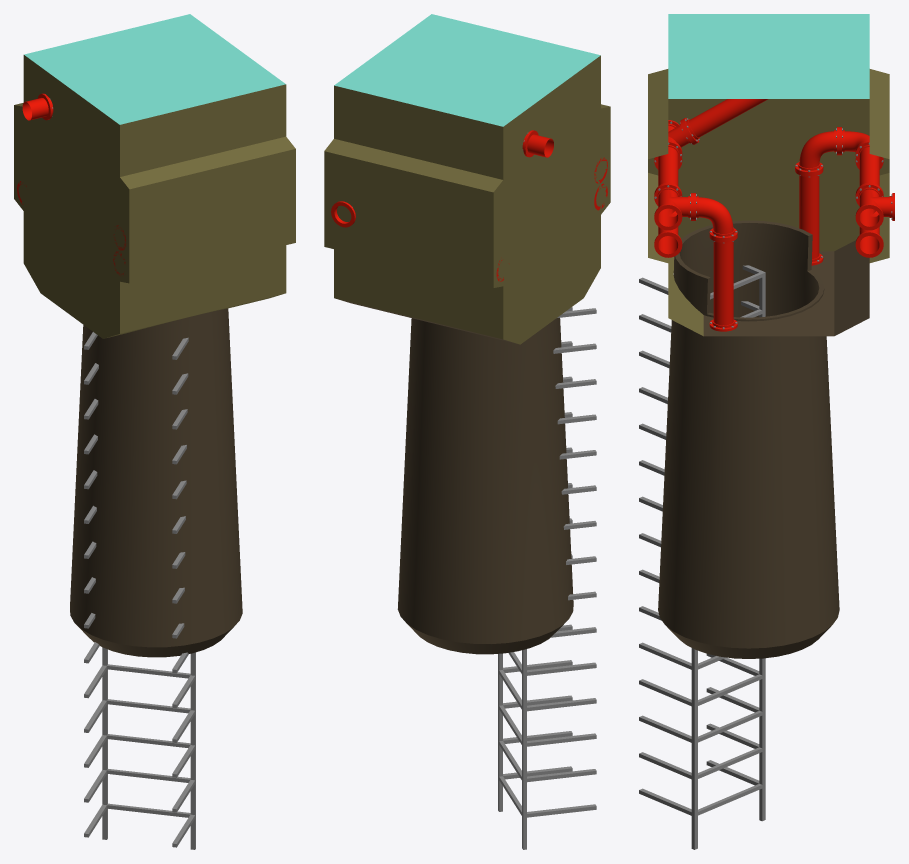
The model's file is Dead_End_Manhole_Down.fbx.
3 renders of one model, left to right at view 1: azimuth 30°, elevation 25°; view 2: azimuth 150°, elevation 25°; view 3: azimuth 270°, elevation 25°, orthographic. The views are drawn at different scales.
Parts seen in each view (by area): view 1: Dead_End_Manhole_Down, Cylinder.010, Cube.001, Pipe_200_Corner.047; view 2: Dead_End_Manhole_Down, Cylinder.010, Cube.001, Pipe_200_Corner.047; view 3: Cylinder.010, Dead_End_Manhole_Down, Cube.001, Pipe_200_Straight_2m.026, Pipe_200_Straight_2m.025, Pipe_200_Straight_2m.027, Pipe_200_T.009, Pipe_200_T.008, Pipe_200_Corner.045, Pipe_200_Corner.046, Pipe_200_Straight_2m.007, Pipe_200_Straight_2m.019 (+3 smaller).
Boxes of the visible parts, <box> form: Dead_End_Manhole_Down: <box>14,14,295,338</box>; Cylinder.010: <box>70,308,242,657</box>; Cube.001: <box>84,332,195,849</box>; Pipe_200_Corner.047: <box>22,93,53,120</box>; Dead_End_Manhole_Down: <box>324,14,610,344</box>; Cylinder.010: <box>397,318,573,654</box>; Cube.001: <box>498,307,596,849</box>; Pipe_200_Corner.047: <box>522,130,553,157</box>; Cylinder.010: <box>658,220,839,658</box>; Dead_End_Manhole_Down: <box>648,14,889,336</box>; Cube.001: <box>639,265,765,849</box>; Pipe_200_Straight_2m.026: <box>709,235,737,331</box>; Pipe_200_Straight_2m.025: <box>795,169,823,265</box>; Pipe_200_Straight_2m.027: <box>682,99,768,143</box>; Pipe_200_T.009: <box>654,183,693,230</box>; Pipe_200_T.008: <box>855,183,894,230</box>; Pipe_200_Corner.045: <box>795,127,839,174</box>; Pipe_200_Corner.046: <box>693,193,737,240</box>; Pipe_200_Straight_2m.007: <box>855,141,883,194</box>; Pipe_200_Straight_2m.019: <box>654,141,682,194</box>.
Bounding box in the file's own units: 2.25 × 8.66 × 2.54.
